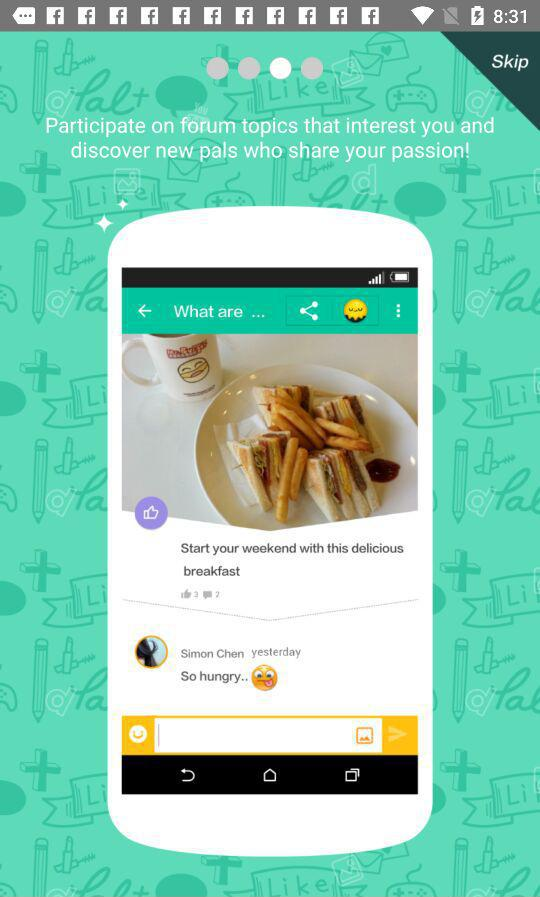BackgroundImage: (1, 33, 540, 897)
Image: (108, 206, 433, 855)
PageIndicator: (206, 57, 325, 82)
Text: (46, 117, 500, 162), (491, 54, 529, 73)
UpperTaskBar: (1, 1, 540, 33)
